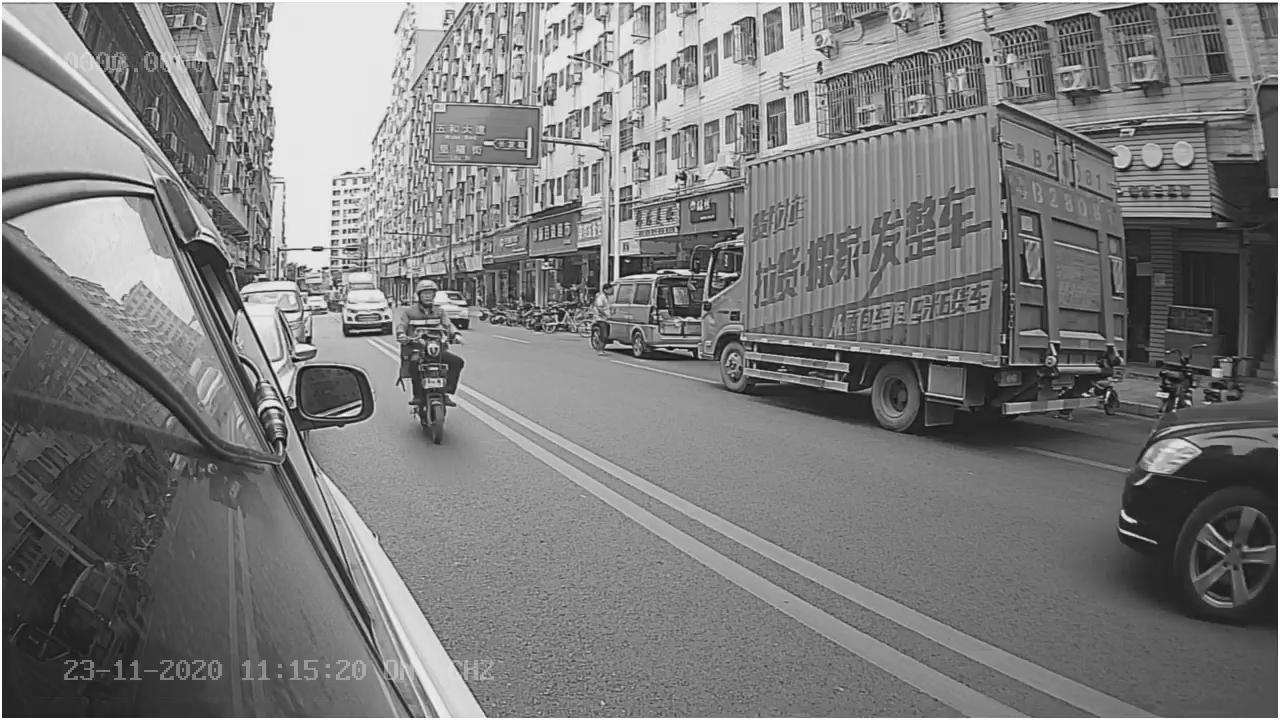person: (391, 273, 468, 342)
